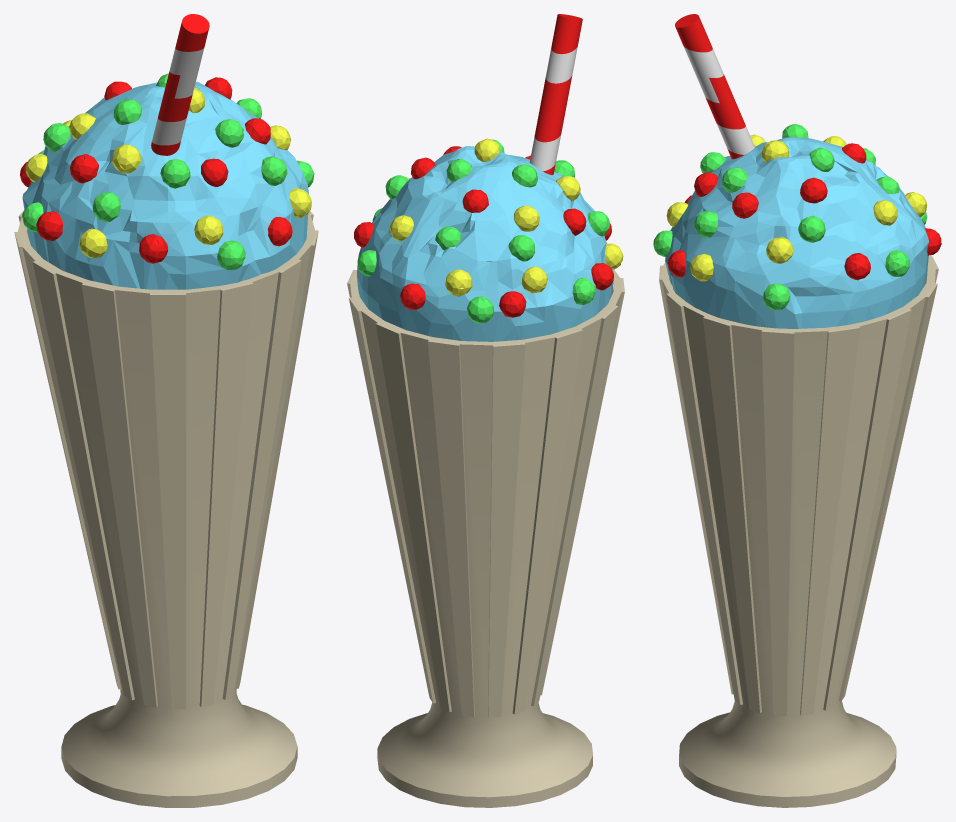
Rendered from Milkshake.gltf.
3 views of the same model, side by side, from view 1: azimuth 30°, elevation 25°; view 2: azimuth 150°, elevation 25°; view 3: azimuth 270°, elevation 25° (orthographic). The views are drawn at different scales.
Visible parts, largest first — view 1: node-0; view 2: node-0; view 3: node-0.
Part boxes in pixels (<box>): node-0: <box>14,14,318,807</box>; node-0: <box>347,14,624,807</box>; node-0: <box>653,14,941,807</box>.
Bounding box in the file's own units: 34.68 × 97.99 × 35.13.
